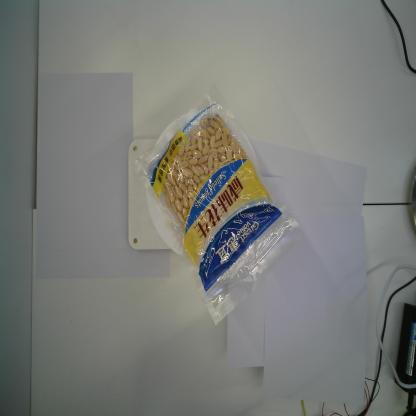Dried Fruit: (128, 84, 302, 326)
